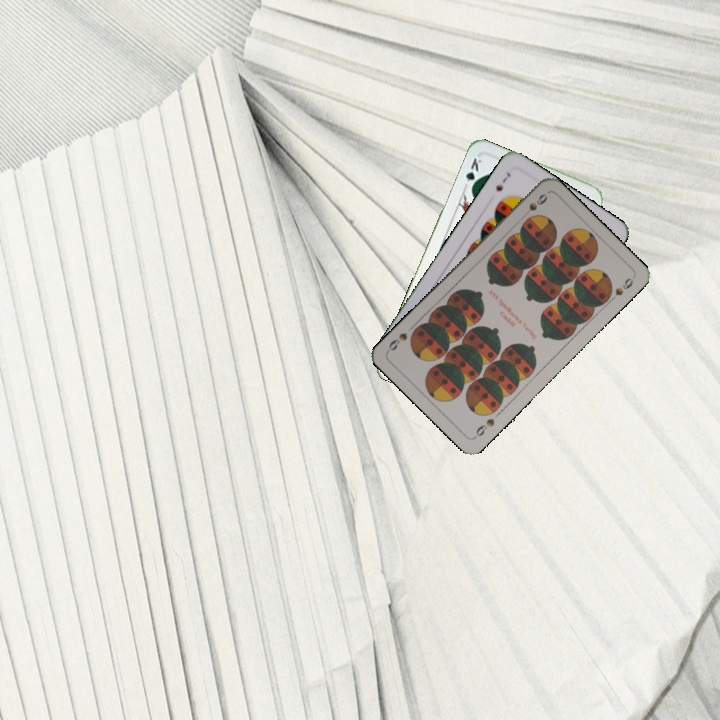GK: (460, 154, 485, 193)
S7: (491, 168, 513, 194)
S9: (517, 190, 550, 221), (471, 414, 497, 441)
